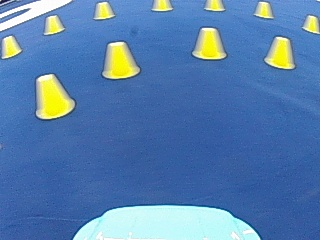cone: (33, 73, 74, 119), (101, 40, 139, 79), (192, 27, 226, 60), (264, 35, 295, 69), (1, 35, 20, 57), (43, 15, 63, 35), (94, 1, 114, 19), (254, 1, 272, 19), (302, 14, 318, 33), (152, 0, 171, 11), (205, 0, 224, 11)
